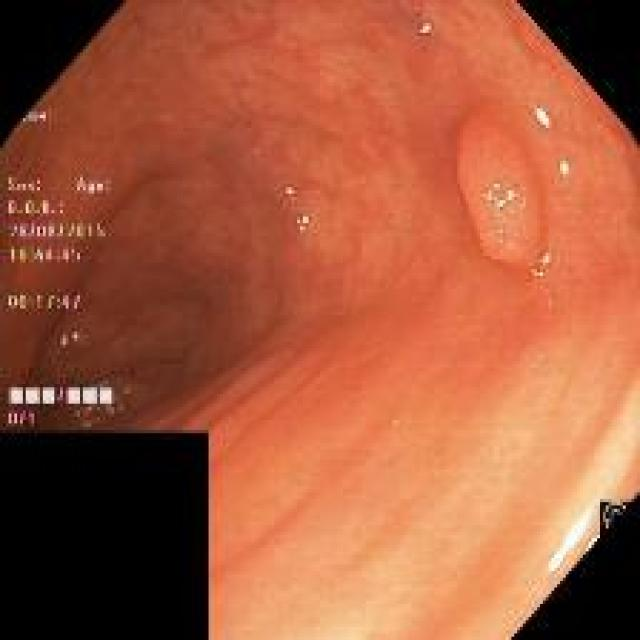Polyps: (458, 111, 546, 268)
